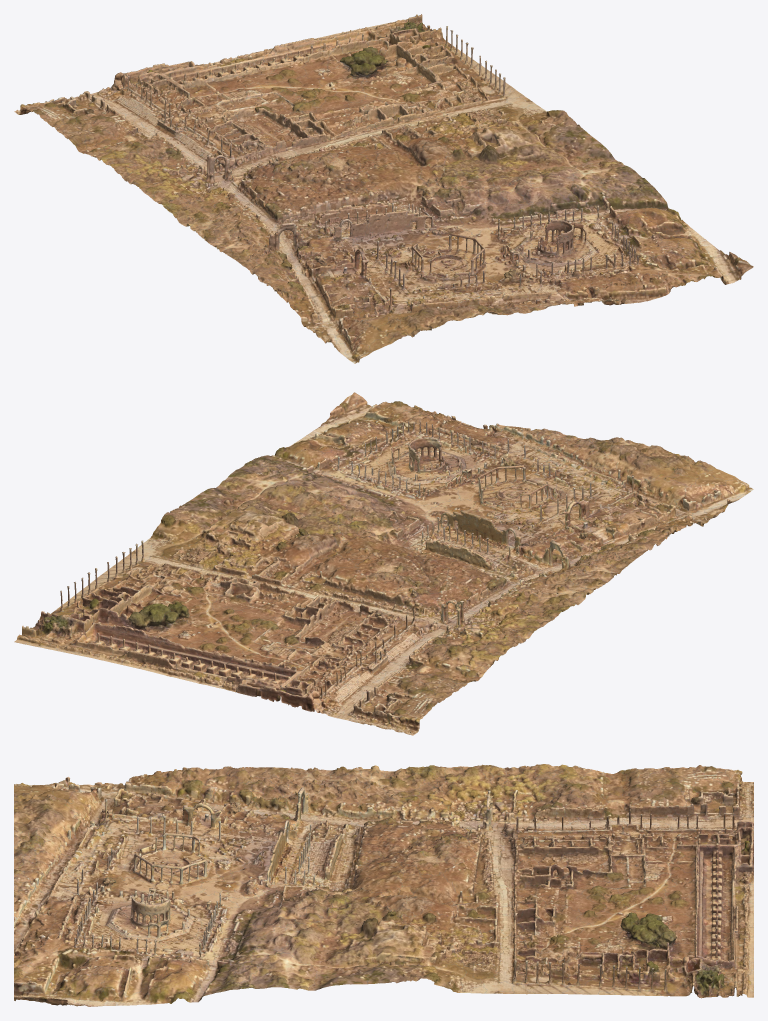
The picture shows the model from 3 angles, top to bottom: view 1: azimuth 30°, elevation 25°; view 2: azimuth 150°, elevation 25°; view 3: azimuth 270°, elevation 25°; orthographic projection. The views are drawn at different scales.
Visible parts, largest first — view 1: LBY_002_M6_Marketplace; view 2: LBY_002_M6_Marketplace; view 3: LBY_002_M6_Marketplace.
Part boxes in pixels (x1,y1,x2,y2): LBY_002_M6_Marketplace: [14, 14, 753, 363]; LBY_002_M6_Marketplace: [14, 392, 753, 735]; LBY_002_M6_Marketplace: [14, 764, 753, 1006].
Size of the model in its own units: 116 by 12.08 by 172.
1 material, 1 textured.
